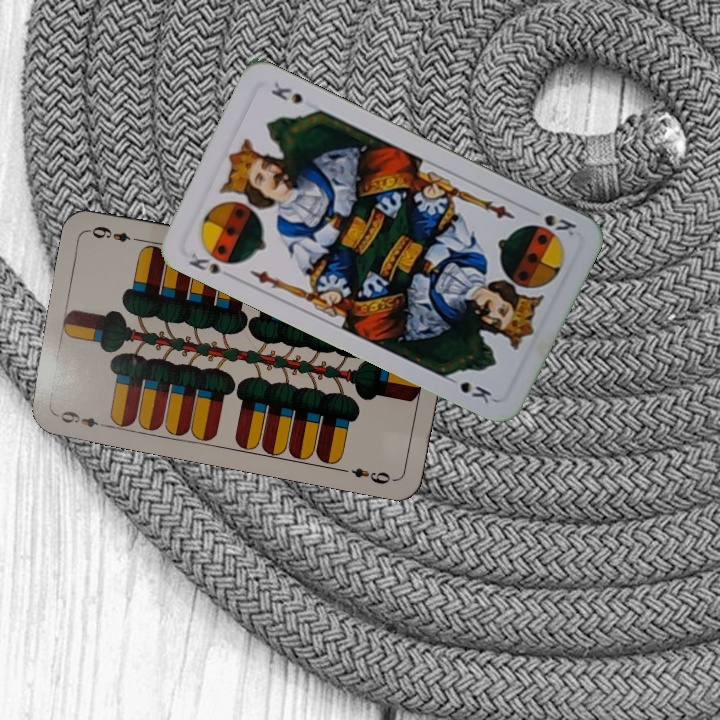E9: (52, 406, 110, 431)
SK: (524, 204, 579, 240), (184, 249, 223, 277)
